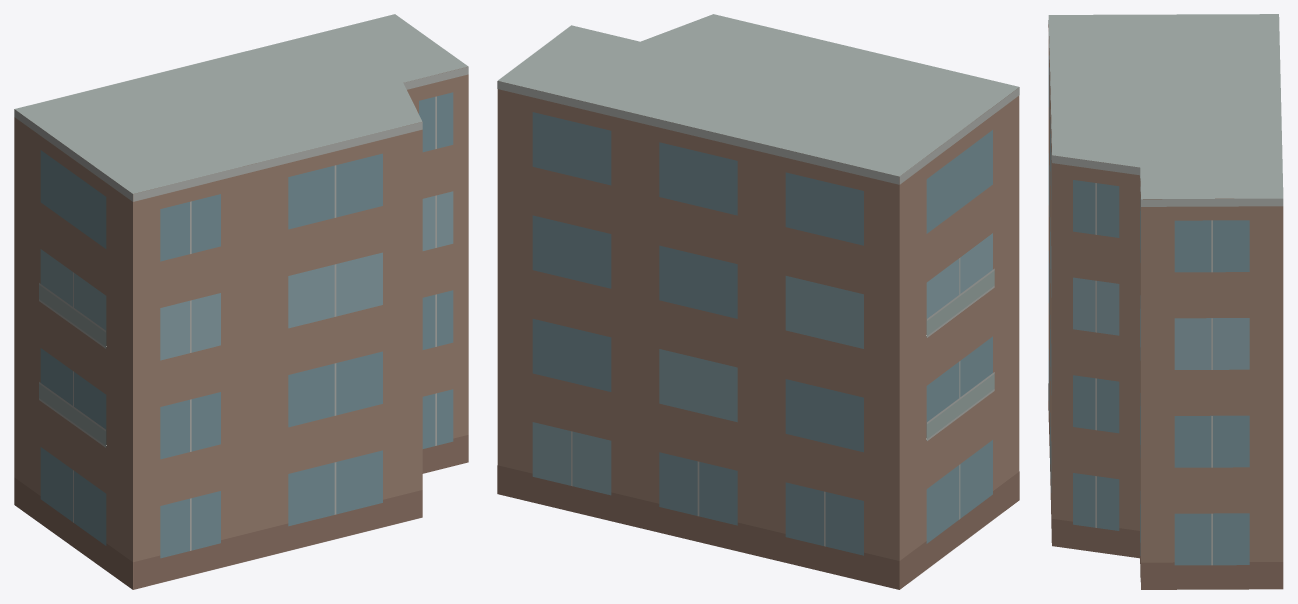
The model's file is residential-4f369595-387e-43f2-bccd-427a47d481a6.glb.
The picture shows the model from 3 angles, left to right: view 1: azimuth 30°, elevation 25°; view 2: azimuth 150°, elevation 25°; view 3: azimuth 270°, elevation 25°; orthographic projection. The views are drawn at different scales.
Visible parts, largest first — view 1: residential-4f369595-387e-43f2-bccd-427a47d481a6.tmp; view 2: residential-4f369595-387e-43f2-bccd-427a47d481a6.tmp; view 3: residential-4f369595-387e-43f2-bccd-427a47d481a6.tmp.
Part boxes in pixels (x1=…): residential-4f369595-387e-43f2-bccd-427a47d481a6.tmp: x1=14, y1=14, x2=468, y2=589; residential-4f369595-387e-43f2-bccd-427a47d481a6.tmp: x1=497, y1=14, x2=1019, y2=589; residential-4f369595-387e-43f2-bccd-427a47d481a6.tmp: x1=1048, y1=14, x2=1283, y2=589.
Size of the model in its own units: 12.43 by 12.2 by 6.66.
